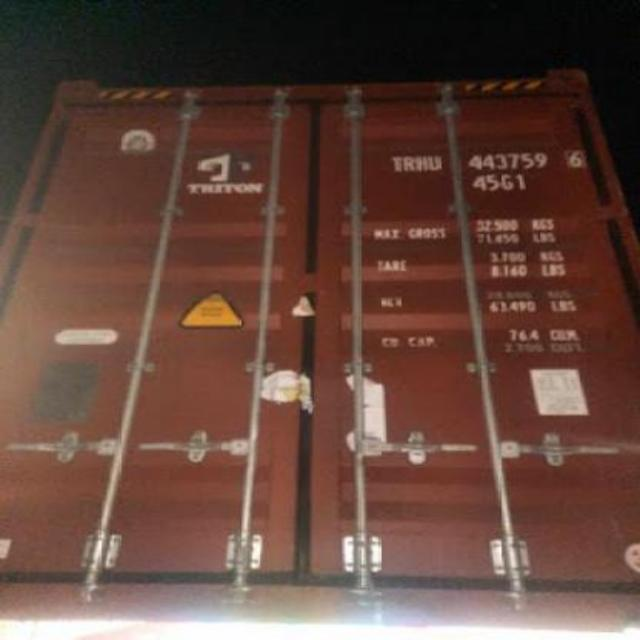3: (494, 148, 508, 172)
4: (478, 145, 496, 175), (464, 146, 482, 174)
5: (520, 146, 534, 172)
6: (564, 146, 584, 170)
7: (506, 142, 522, 174)
9: (534, 143, 550, 173)
H: (416, 148, 429, 184)
R: (400, 150, 416, 180)
T: (381, 148, 402, 178)
U: (428, 143, 446, 179)
